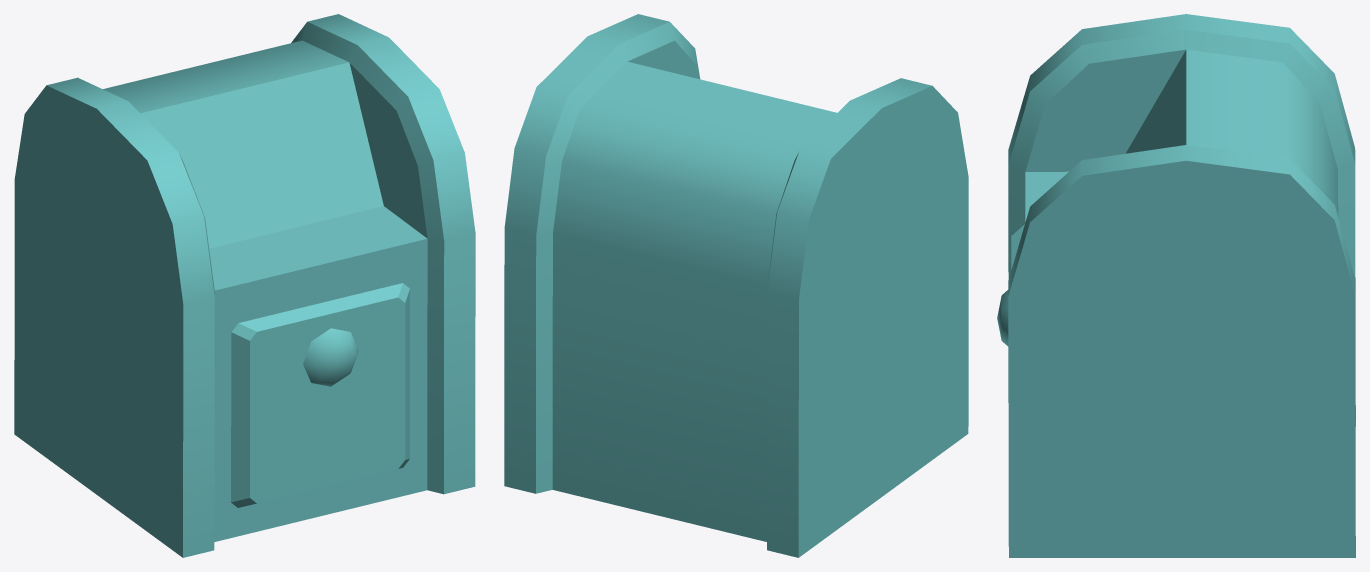
File: post.glb
3 renders of one model, left to right at view 1: azimuth 30°, elevation 25°; view 2: azimuth 150°, elevation 25°; view 3: azimuth 270°, elevation 25°, orthographic. The views are drawn at different scales.
Visible parts, largest first — view 1: post; view 2: post; view 3: post.
Boxes of the visible parts, x1,y1,x2,y2 form: post: [14, 14, 475, 557]; post: [504, 14, 968, 557]; post: [997, 14, 1355, 557].
Bounding box in the file's own units: 0.9 × 1.14 × 0.9297.
